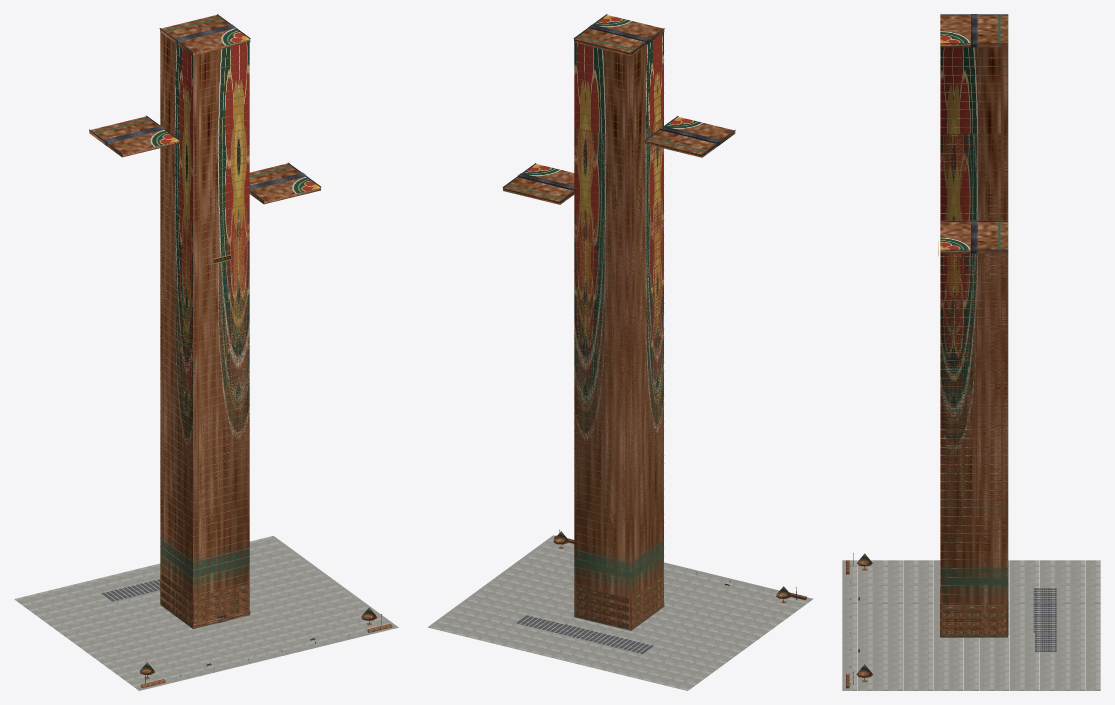
The picture shows the model from 3 angles, left to right: view 1: azimuth 30°, elevation 25°; view 2: azimuth 150°, elevation 25°; view 3: azimuth 270°, elevation 25°; orthographic projection. The views are drawn at different scales.
Visible parts, largest first — view 1: 11680_01_06243_022_02__mass_body_facade, 11680_01_06243_022_01__plinth_ground_base, 11680_01_06243_022_03__roof_metal_ornament; view 2: 11680_01_06243_022_02__mass_body_facade, 11680_01_06243_022_01__plinth_ground_base, 11680_01_06243_022_03__roof_deck_structure, 11680_01_06243_022_03__roof_metal_ornament; view 3: 11680_01_06243_022_02__mass_body_facade, 11680_01_06243_022_01__plinth_ground_base, 11680_01_06243_022_03__roof_deck_structure, 11680_01_06243_022_03__roof_metal_ornament, 11680_01_06243_022_06__landscape_greenery.
Part boxes in pixels (left/top/right/bottom): 11680_01_06243_022_02__mass_body_facade: left=89, top=15, right=320, bottom=628; 11680_01_06243_022_01__plinth_ground_base: left=14, top=536, right=398, bottom=690; 11680_01_06243_022_03__roof_metal_ornament: left=89, top=14, right=321, bottom=201; 11680_01_06243_022_02__mass_body_facade: left=503, top=15, right=735, bottom=630; 11680_01_06243_022_01__plinth_ground_base: left=427, top=535, right=813, bottom=690; 11680_01_06243_022_03__roof_deck_structure: left=516, top=615, right=653, bottom=653; 11680_01_06243_022_03__roof_metal_ornament: left=502, top=14, right=735, bottom=201; 11680_01_06243_022_02__mass_body_facade: left=940, top=15, right=1008, bottom=637; 11680_01_06243_022_01__plinth_ground_base: left=842, top=560, right=1100, bottom=690; 11680_01_06243_022_03__roof_deck_structure: left=1033, top=588, right=1056, bottom=651; 11680_01_06243_022_03__roof_metal_ornament: left=940, top=14, right=1008, bottom=253; 11680_01_06243_022_06__landscape_greenery: left=846, top=553, right=872, bottom=688.
Bounding box in the file's own units: 110 × 235 × 91.95.
7 materials, 7 textured.
